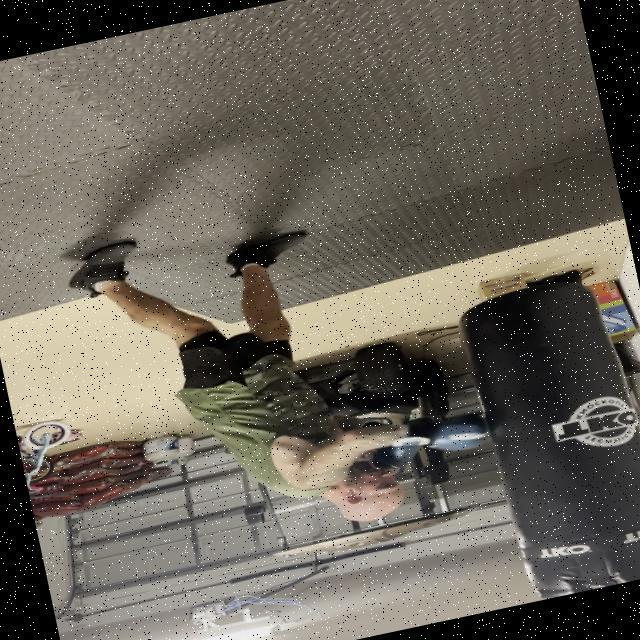cross: (184, 364, 522, 574), (465, 267, 640, 602)
